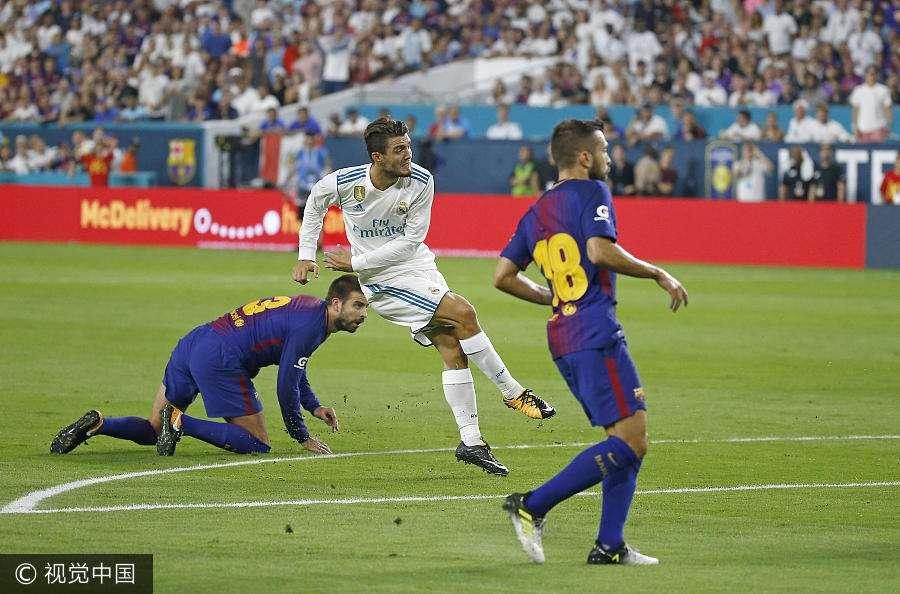bending: (303, 111, 550, 481), (50, 263, 375, 463)
up: (494, 108, 690, 578)
